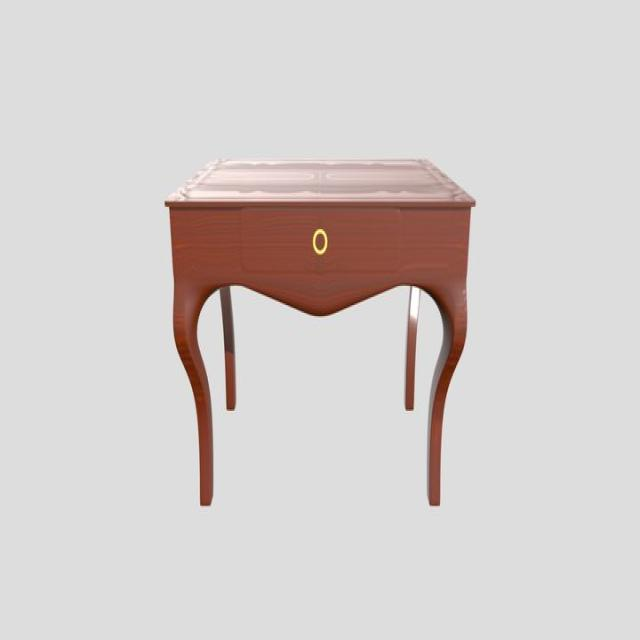table: (166, 153, 479, 509)
